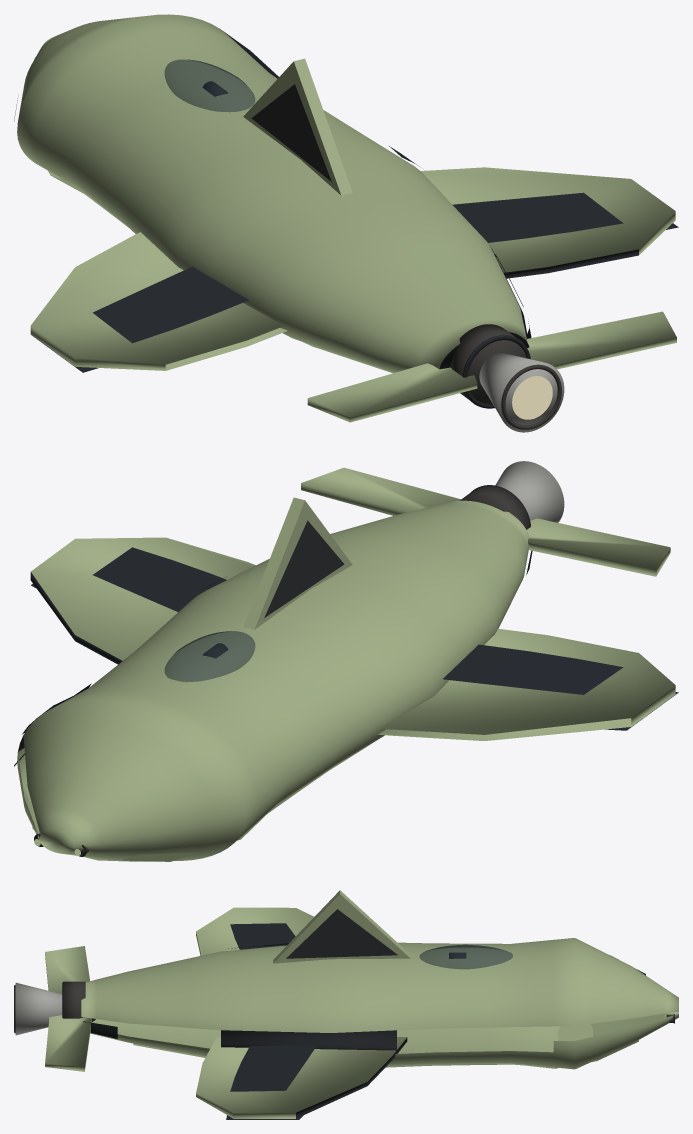
The model's file is Ship_Orca_492814.glb.
3 renders of one model, top to bottom at view 1: azimuth 30°, elevation 25°; view 2: azimuth 150°, elevation 25°; view 3: azimuth 270°, elevation 25°, orthographic. The views are drawn at different scales.
Parts seen in each view (by area): view 1: Fuselage_OrcaCountershadedHull, PectoralFin_Left_AerofoilWingFin, PectoralFin_Right_AerofoilWingFin, PectoralFinPaint_Left_BroadSimplePanelTop, PectoralFinPaint_Right_BroadSimplePanelTop, TailFluke_Left_SweptAftStabilizer, TailFluke_Right_SweptAftStabilizer, DorsalFin_MainSweptKeel, CanopyGlass_LowInsetDome, EngineBell_MainLargeBurnishedNozzle, DorsalFinTrimPatch_LeftFace, EngineMount_AftIntegratedRoundSocket (+3 smaller); view 2: Fuselage_OrcaCountershadedHull, PectoralFin_Left_AerofoilWingFin, PectoralFin_Right_AerofoilWingFin, PectoralFinPaint_Left_BroadSimplePanelTop, TailFluke_Left_SweptAftStabilizer, PectoralFinPaint_Right_BroadSimplePanelTop, TailFluke_Right_SweptAftStabilizer, DorsalFin_MainSweptKeel, CanopyGlass_LowInsetDome, DorsalFinTrimPatch_LeftFace, EngineBell_MainLargeBurnishedNozzle, EngineMount_AftIntegratedRoundSocket (+1 smaller); view 3: Fuselage_OrcaCountershadedHull, PectoralFin_Right_AerofoilWingFin, PectoralFinRoot_Right_BlendedShoulder, PectoralFinPaint_Right_BroadSimplePanelTop, DorsalFinTrimPatch_RightFace, PectoralFin_Left_AerofoilWingFin, DorsalFin_MainSweptKeel, TailFluke_Right_SweptAftStabilizer, EngineBell_MainLargeBurnishedNozzle, CanopyGlass_LowInsetDome, TailFluke_Left_SweptAftStabilizer, PectoralFinPaint_Left_BroadSimplePanelTop (+2 smaller).
Part boxes in pixels (left/top/right/bottom): Fuselage_OrcaCountershadedHull: left=17, top=14, right=529, bottom=372; PectoralFin_Left_AerofoilWingFin: left=30, top=232, right=287, bottom=370; PectoralFin_Right_AerofoilWingFin: left=421, top=167, right=675, bottom=278; PectoralFinPaint_Left_BroadSimplePanelTop: left=92, top=266, right=248, bottom=343; PectoralFinPaint_Right_BroadSimplePanelTop: left=452, top=192, right=623, bottom=242; TailFluke_Left_SweptAftStabilizer: left=307, top=363, right=477, bottom=422; TailFluke_Right_SweptAftStabilizer: left=527, top=311, right=676, bottom=369; DorsalFin_MainSweptKeel: left=243, top=58, right=352, bottom=195; CanopyGlass_LowInsetDome: left=164, top=59, right=255, bottom=112; EngineBell_MainLargeBurnishedNozzle: left=479, top=353, right=564, bottom=432; DorsalFinTrimPatch_LeftFace: left=251, top=84, right=331, bottom=181; EngineMount_AftIntegratedRoundSocket: left=451, top=324, right=530, bottom=408; Fuselage_OrcaCountershadedHull: left=17, top=500, right=529, bottom=860; PectoralFin_Left_AerofoilWingFin: left=378, top=628, right=675, bottom=740; PectoralFin_Right_AerofoilWingFin: left=30, top=537, right=255, bottom=664; PectoralFinPaint_Left_BroadSimplePanelTop: left=443, top=644, right=623, bottom=694; TailFluke_Left_SweptAftStabilizer: left=526, top=518, right=670, bottom=576; PectoralFinPaint_Right_BroadSimplePanelTop: left=93, top=547, right=226, bottom=611; TailFluke_Right_SweptAftStabilizer: left=301, top=467, right=460, bottom=515; DorsalFin_MainSweptKeel: left=243, top=497, right=352, bottom=629; CanopyGlass_LowInsetDome: left=164, top=631, right=255, bottom=682; DorsalFinTrimPatch_LeftFace: left=264, top=520, right=344, bottom=617; EngineBell_MainLargeBurnishedNozzle: left=495, top=461, right=564, bottom=522; EngineMount_AftIntegratedRoundSocket: left=459, top=485, right=530, bottom=529; Fuselage_OrcaCountershadedHull: left=81, top=938, right=678, bottom=1069; PectoralFin_Right_AerofoilWingFin: left=196, top=1037, right=407, bottom=1118; PectoralFinRoot_Right_BlendedShoulder: left=221, top=1030, right=396, bottom=1050; PectoralFinPaint_Right_BroadSimplePanelTop: left=230, top=1044, right=317, bottom=1091; DorsalFinTrimPatch_RightFace: left=286, top=909, right=397, bottom=958; PectoralFin_Left_AerofoilWingFin: left=196, top=907, right=313, bottom=955; DorsalFin_MainSweptKeel: left=273, top=890, right=410, bottom=963; TailFluke_Right_SweptAftStabilizer: left=45, top=1015, right=95, bottom=1071; EngineBell_MainLargeBurnishedNozzle: left=15, top=982, right=62, bottom=1035; CanopyGlass_LowInsetDome: left=419, top=944, right=512, bottom=969; TailFluke_Left_SweptAftStabilizer: left=45, top=946, right=89, bottom=993; PectoralFinPaint_Left_BroadSimplePanelTop: left=230, top=923, right=295, bottom=949.
Size of the model in its own units: 5.54 by 2.06 by 7.59.
